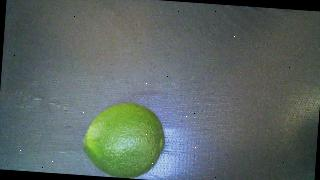EXPORTACION: (81, 100, 167, 180)
